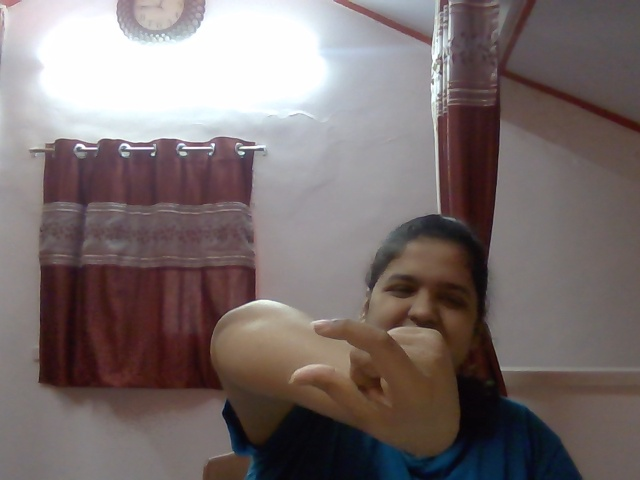x: (280, 301, 435, 440)
